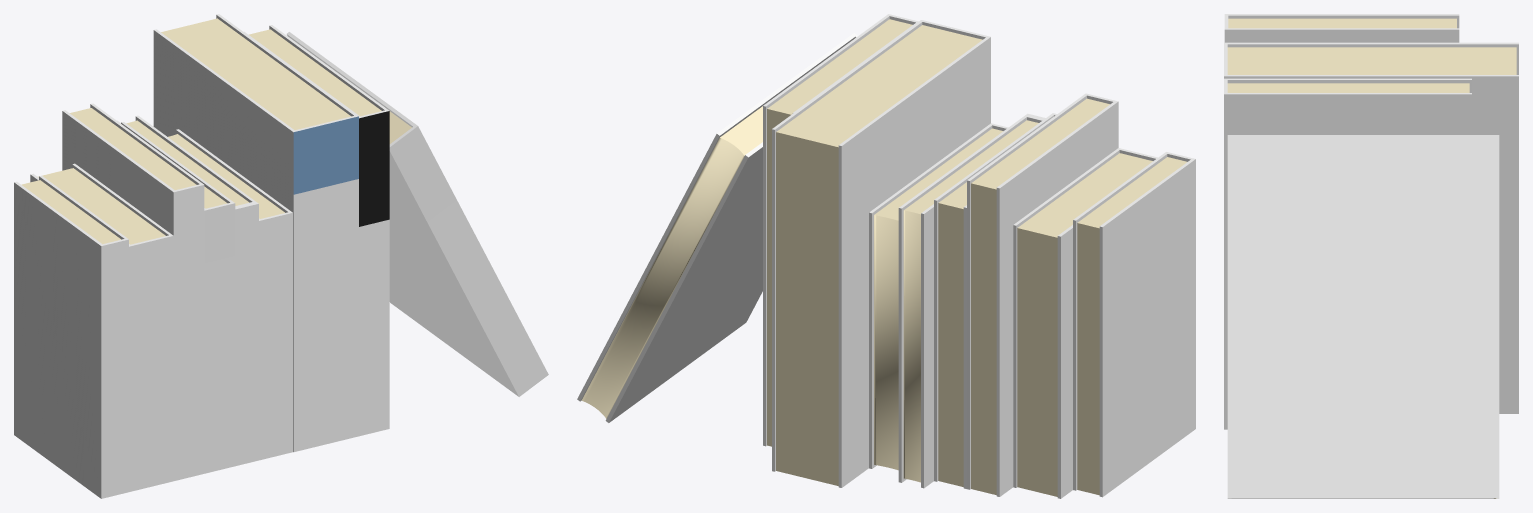
The model's file is Books.glb.
3 renders of one model, left to right at view 1: azimuth 30°, elevation 25°; view 2: azimuth 150°, elevation 25°; view 3: azimuth 270°, elevation 25°, orthographic. The views are drawn at different scales.
Visible parts, largest first — view 1: C-Component#171, C-Component#145, C-Component#166, C-Component#151, C-Component#164, C-Component#168, C-Component#135, C-Component#172, C-Component#149; view 2: C-Component#171, C-Component#145, C-Component#166, C-Component#151, C-Component#164, C-Component#149, C-Component#172, C-Component#135, C-Component#168; view 3: C-Component#166, C-Component#171, C-Component#168, C-Component#151.
Boxes of the visible parts, x1,y1,x2,y2 form: C-Component#171: (153,14,358,452); C-Component#145: (14,175,128,498); C-Component#166: (286,32,548,396); C-Component#151: (62,103,204,480); C-Component#164: (30,163,173,491); C-Component#168: (244,25,389,436); C-Component#135: (168,129,292,460); C-Component#172: (121,122,235,473); C-Component#149: (117,115,258,466); C-Component#171: (772,20,990,487); C-Component#145: (1073,152,1195,497); C-Component#166: (577,33,857,422); C-Component#151: (967,93,1118,496); C-Component#164: (1013,148,1157,498); C-Component#149: (898,113,1045,488); C-Component#172: (934,113,1056,488); C-Component#135: (869,123,1008,470); C-Component#168: (763,14,918,446); C-Component#166: (1227,135,1499,498); C-Component#171: (1224,42,1518,413); C-Component#168: (1224,78,1471,429); C-Component#151: (1224,14,1459,42).
Bounding box in the file's own units: 0.3947 × 0.2702 × 0.2129.
14 materials, 9 textured.
